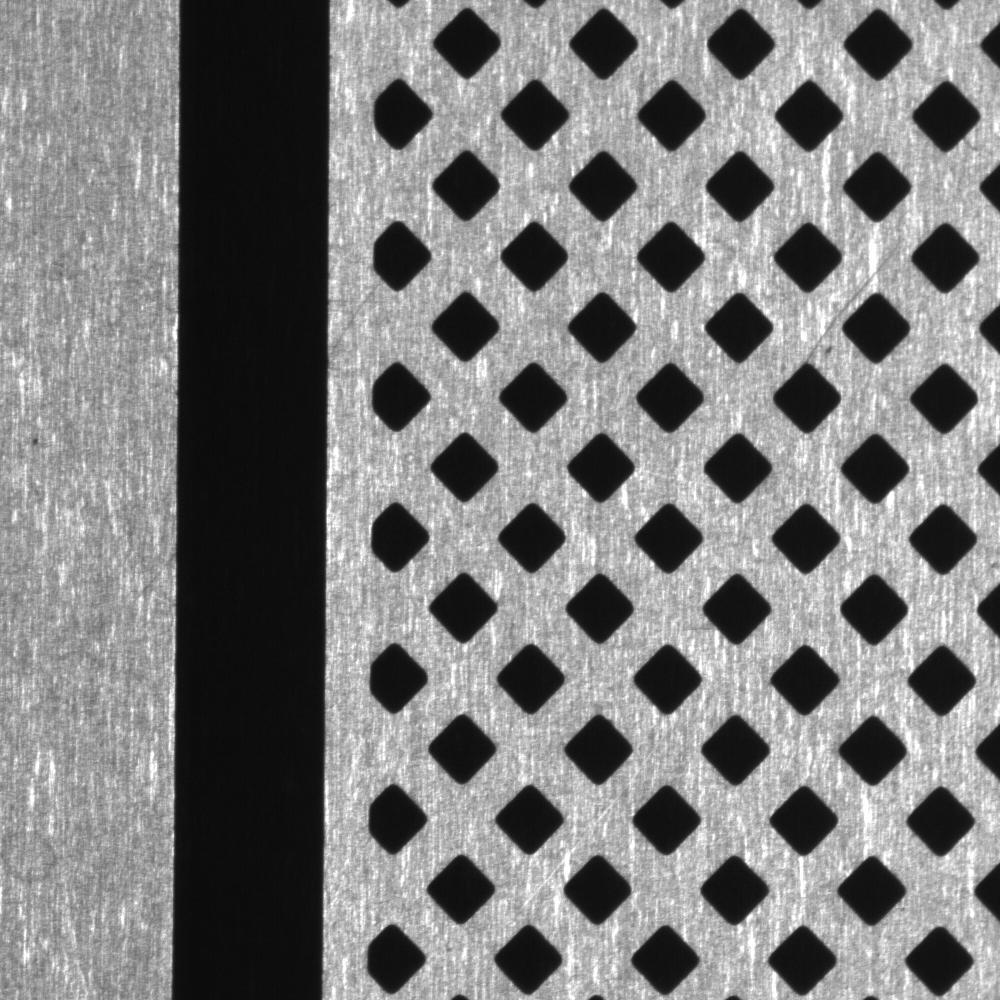Pinhole: (19, 427, 54, 460)
Scar: (789, 231, 911, 366), (512, 828, 584, 918), (327, 277, 391, 353), (628, 711, 673, 796), (123, 547, 176, 609)
